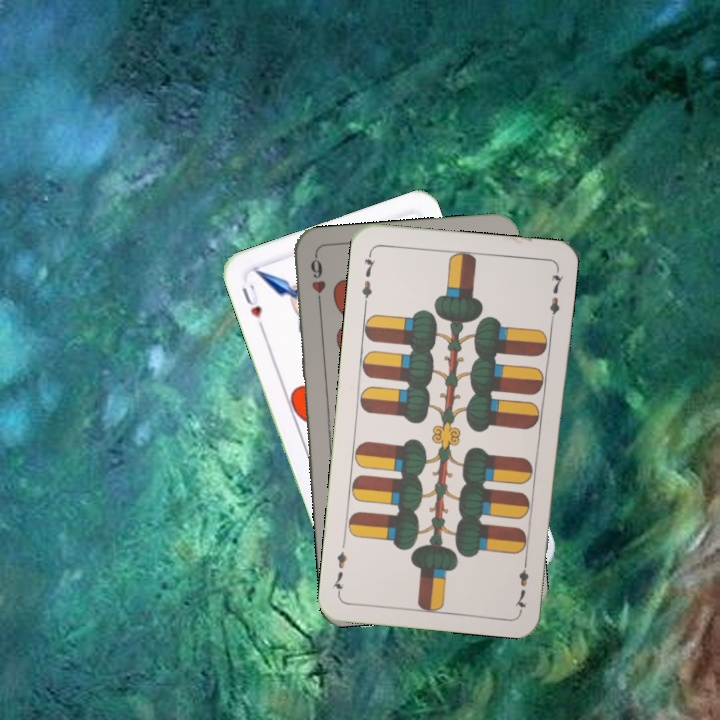E7: (511, 553, 532, 612), (358, 248, 378, 307)
H9: (306, 252, 329, 311)
HU: (238, 280, 267, 333)
